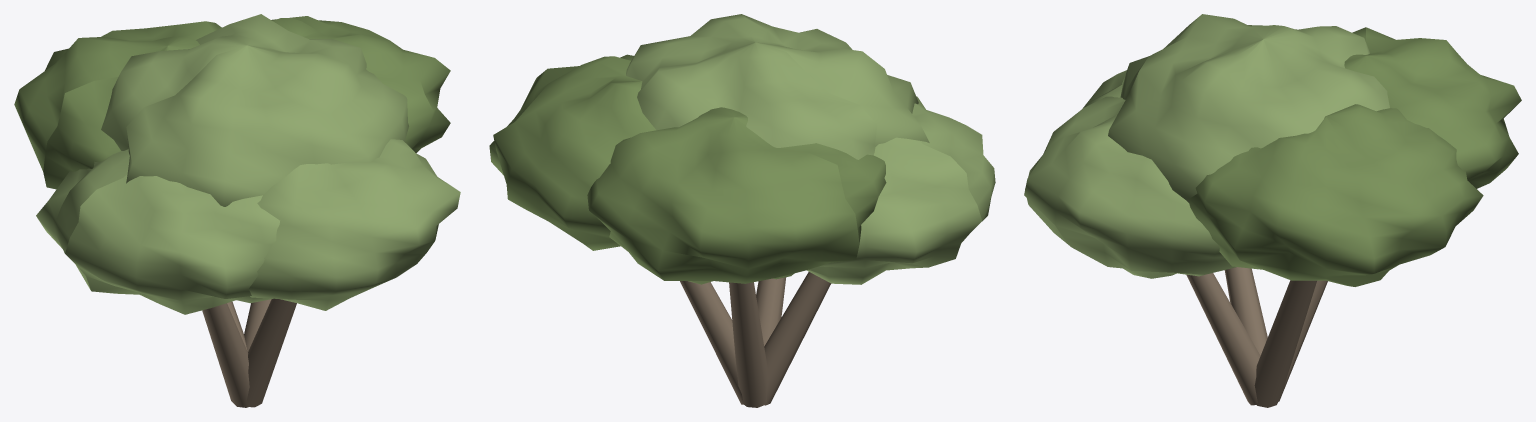
Rendered from perzsafa-bokorfa.glb.
3 views of the same model, side by side, from view 1: azimuth 30°, elevation 25°; view 2: azimuth 150°, elevation 25°; view 3: azimuth 270°, elevation 25° (orthographic).
Visible parts, largest first — view 1: kozeptomeg, korona-1, korona-3, korona-4, korona-2, to-3, to-1, to-2; view 2: korona-4, kozeptomeg, korona-2, korona-1, to-4, to-1, to-2, to-3; view 3: korona-2, kozeptomeg, korona-3, korona-4, to-2, to-3, to-1, to-4, korona-1.
Part boxes in pixels (bbox=[...]): kozeptomeg: bbox=[101, 14, 408, 206]; korona-1: bbox=[36, 149, 279, 314]; korona-3: bbox=[249, 139, 460, 310]; korona-4: bbox=[14, 21, 221, 189]; korona-2: bbox=[271, 16, 450, 153]; to-3: bbox=[243, 298, 296, 407]; to-1: bbox=[202, 303, 250, 407]; to-2: bbox=[244, 299, 271, 351]; korona-4: bbox=[587, 107, 886, 284]; kozeptomeg: bbox=[626, 14, 929, 159]; korona-2: bbox=[489, 54, 656, 250]; korona-1: bbox=[807, 96, 995, 284]; to-4: bbox=[729, 282, 768, 407]; to-1: bbox=[762, 272, 831, 405]; to-2: bbox=[680, 281, 743, 404]; to-3: bbox=[756, 277, 786, 345]; korona-2: bbox=[1189, 104, 1483, 286]; kozeptomeg: bbox=[1108, 14, 1389, 202]; korona-3: bbox=[1024, 96, 1236, 278]; korona-4: bbox=[1344, 27, 1521, 188]; to-2: bbox=[1254, 280, 1316, 407]; to-3: bbox=[1186, 273, 1260, 405]; to-1: bbox=[1224, 267, 1267, 355]; to-4: bbox=[1278, 280, 1327, 401]; korona-1: bbox=[1082, 70, 1126, 108].
Size of the model in its own units: 6.04 by 4.98 by 6.18.
